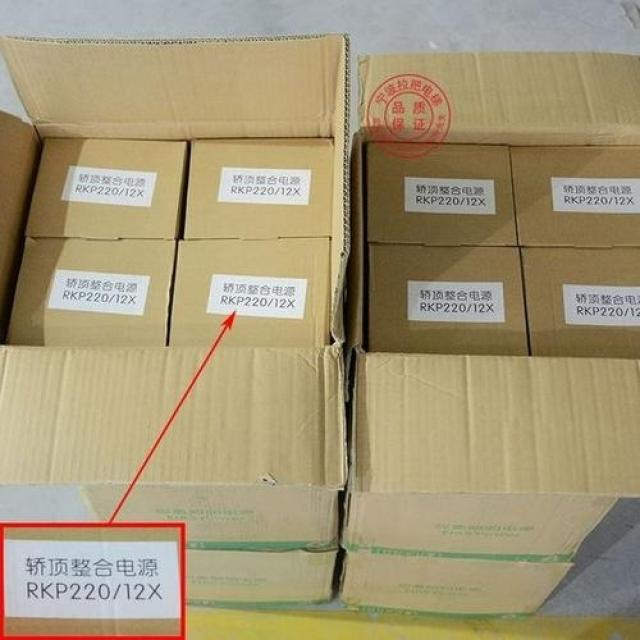box: (0, 34, 347, 602), (335, 52, 639, 617), (6, 235, 176, 345), (167, 235, 331, 346), (369, 241, 530, 354), (24, 135, 190, 237), (365, 140, 517, 246), (183, 138, 332, 241), (522, 244, 639, 358), (509, 144, 639, 246)
